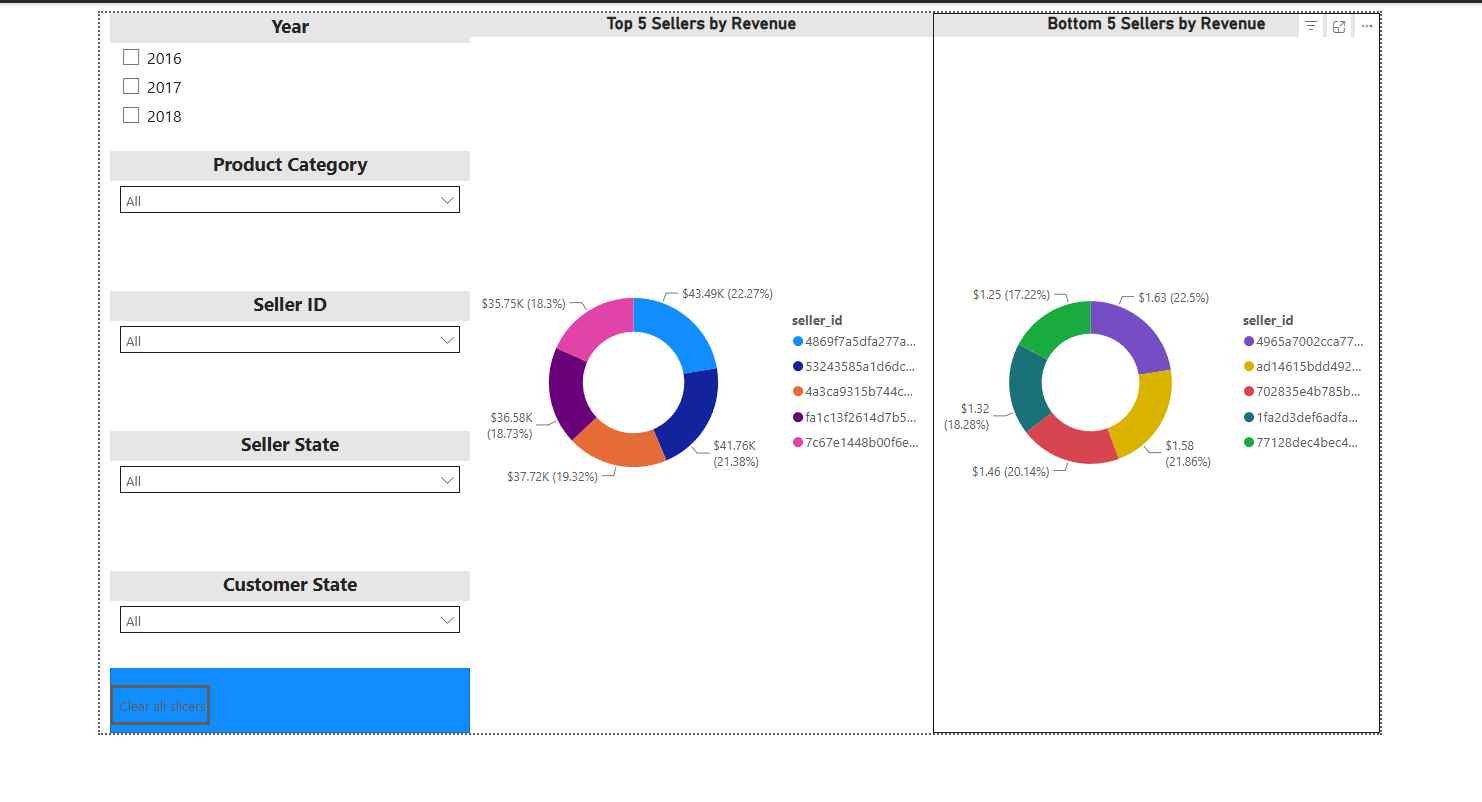

The page's visual inventory and layout, read from the dashboard file:
{"tool":"powerbi","page":{"name":"Seller Revenue Distribution","canvas":[1280,720],"ordinal":4},"visuals":[{"type":"shape","box":[10,0,360,720],"z":0},{"type":"slicer","title":"Year","fields":{"Values":["Date.Year"]},"box":[10,0,360,138.3],"z":1000},{"type":"slicer","title":"Product Category","fields":{"Values":["product_category_name_translati.product_category_name_english"]},"box":[10,138.3,360,140],"z":2000},{"type":"slicer","title":"Seller ID","fields":{"Values":["sellers.seller_id"]},"box":[10,278.3,360,140],"z":3000},{"type":"slicer","title":"Seller State","fields":{"Values":["sellers.seller_state"]},"box":[10,418.3,360,140],"z":4000},{"type":"slicer","title":"Customer State","fields":{"Values":["customers.customer_state"]},"box":[10,558.3,360,96.7],"z":5000},{"type":"donutChart","title":"Top 5 Sellers by Revenue","fields":{"Category":["sellers.seller_id"],"Y":["Date.Safe Total Revenue"]},"box":[370,0,463.3,720],"z":5001},{"type":"donutChart","title":"Bottom 5 Sellers by Revenue","fields":{"Category":["sellers.seller_id"],"Y":["Date.Safe Total Revenue"]},"box":[833.3,0,446.7,720],"z":5002},{"type":"actionButton","box":[10,671.7,100,40],"z":5003}]}

Visuals, with their boxes on the page's 1280x720 design canvas (x1, y1, x2, y2). These are canvas units, not pixel positions in the 1482x802 screenshot, which may show the page scaled, cropped or inside an application window:
shape: detection(10, 0, 370, 720)
"Year" slicer: detection(10, 0, 370, 138)
"Product Category" slicer: detection(10, 138, 370, 278)
"Seller ID" slicer: detection(10, 278, 370, 418)
"Seller State" slicer: detection(10, 418, 370, 558)
"Customer State" slicer: detection(10, 558, 370, 655)
"Top 5 Sellers by Revenue" donutChart: detection(370, 0, 833, 720)
"Bottom 5 Sellers by Revenue" donutChart: detection(833, 0, 1280, 720)
actionButton: detection(10, 672, 110, 712)
